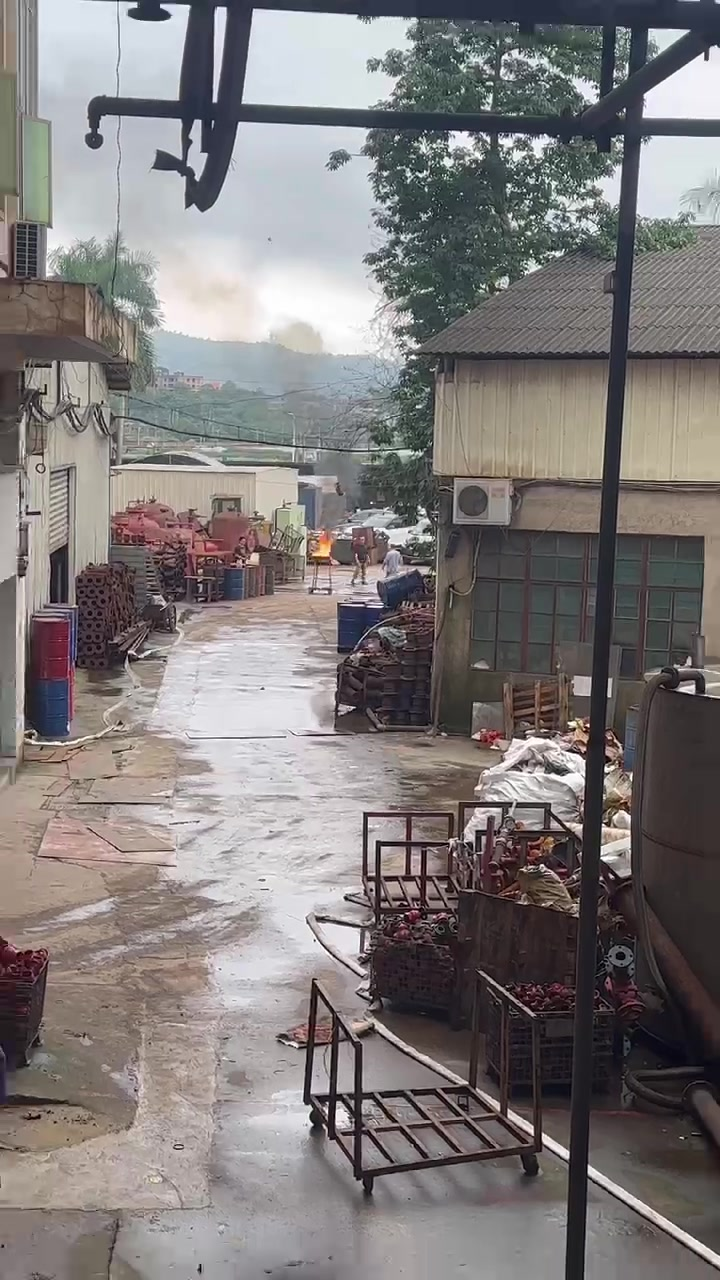fire: (312, 533, 332, 556)
